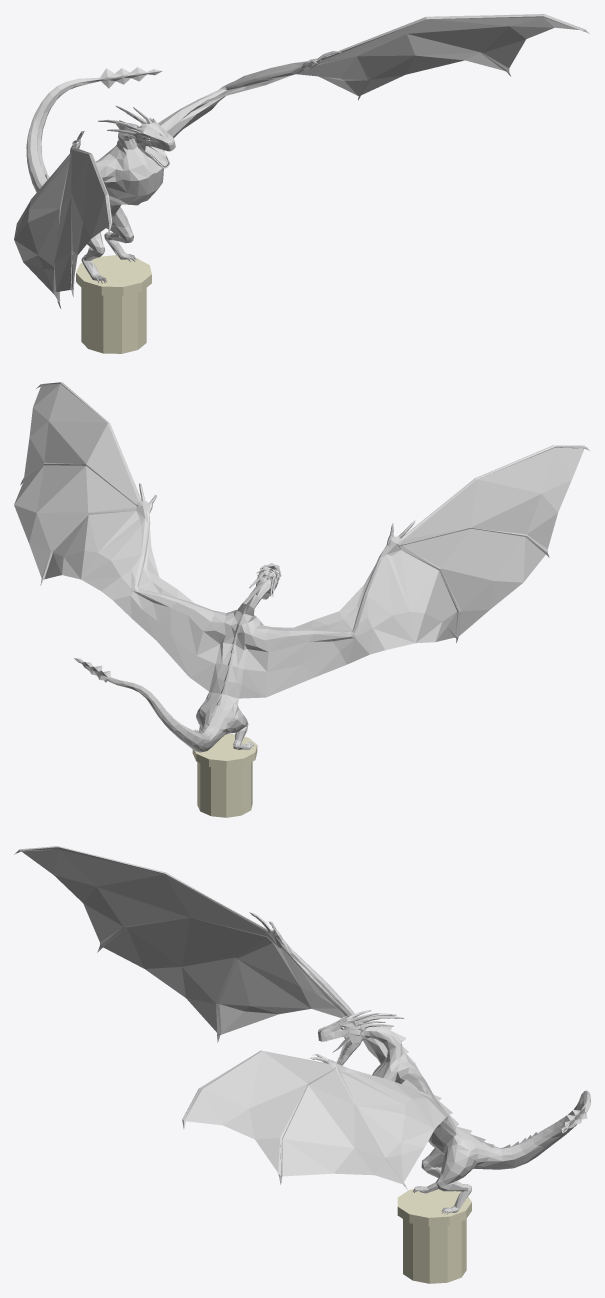
Rendered from dragon17_toEsculture_2.1.fbx.
3 views of the same model, one above another, from view 1: azimuth 30°, elevation 25°; view 2: azimuth 150°, elevation 25°; view 3: azimuth 270°, elevation 25° (orthographic). The views are drawn at different scales.
Parts seen in each view (by area): view 1: Dragon, Base; view 2: Dragon, Base; view 3: Dragon, Base.
Boxes of the visible parts, x1=… form: Dragon: x1=14, y1=14, x2=589, y2=308; Base: x1=76, y1=255, x2=151, y2=353; Dragon: x1=14, y1=382, x2=589, y2=752; Base: x1=192, y1=734, x2=257, y2=817; Dragon: x1=14, y1=846, x2=590, y2=1214; Base: x1=397, y1=1189, x2=471, y2=1283.
Size of the model in its own units: 1988 by 1126 by 1774.
